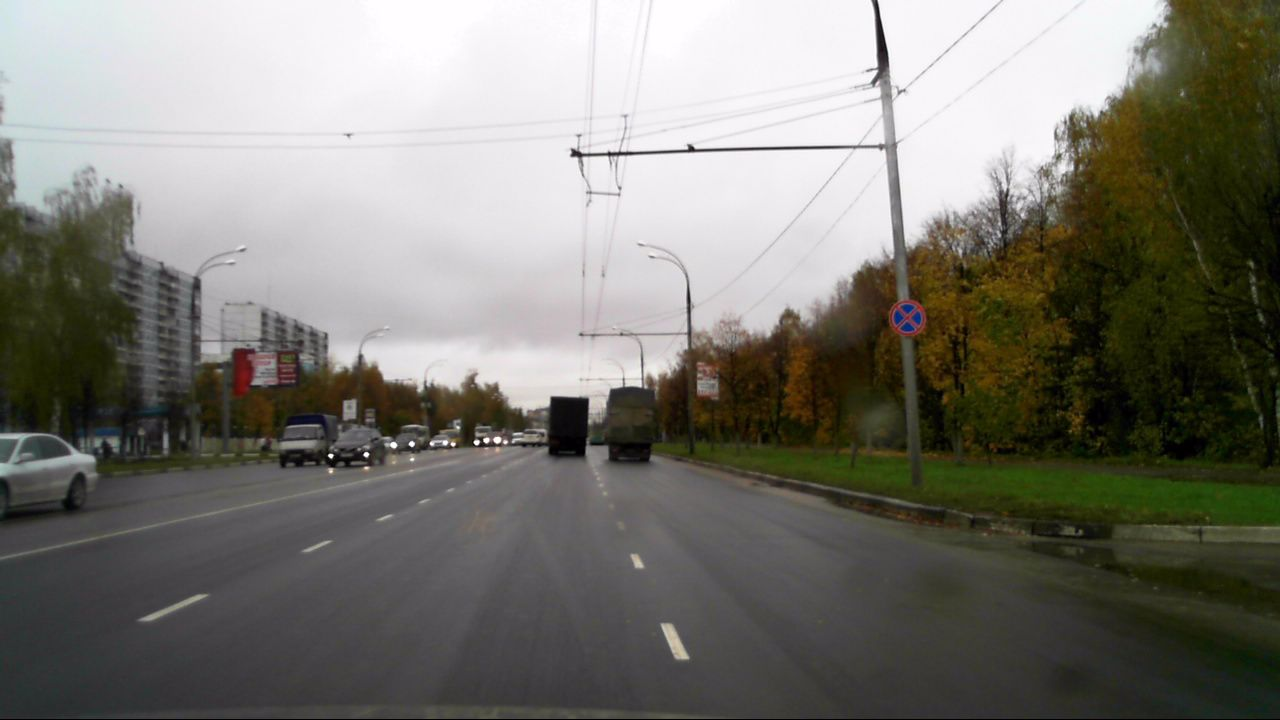No Parking: (888, 298, 926, 337)
